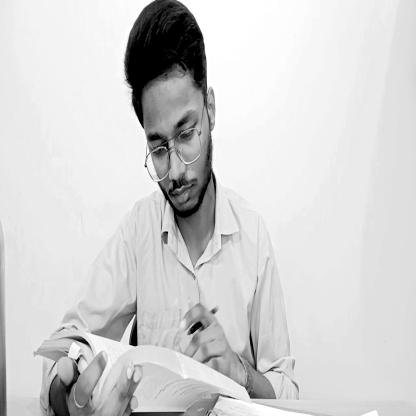Distracted: (124, 0, 216, 228)
